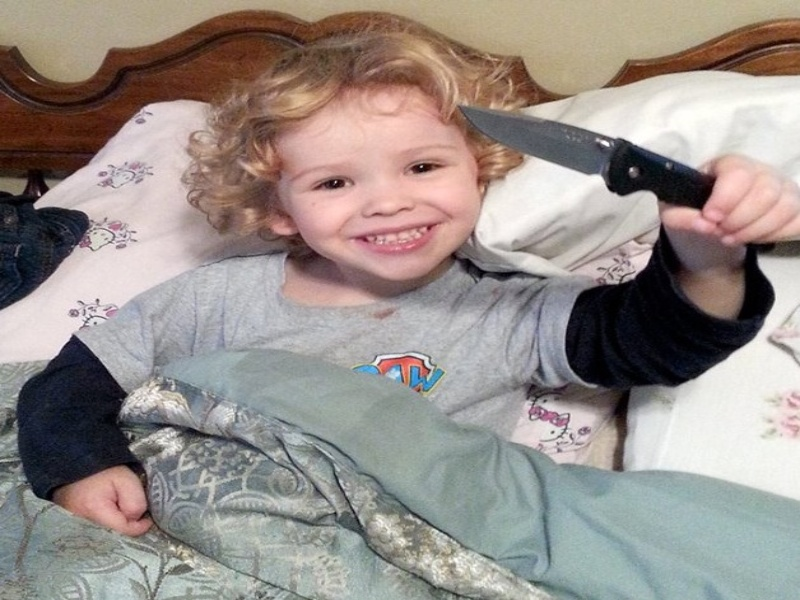hand: (657, 154, 800, 328), (36, 461, 159, 539)
knife: (457, 101, 705, 204)
person: (17, 28, 799, 533)
